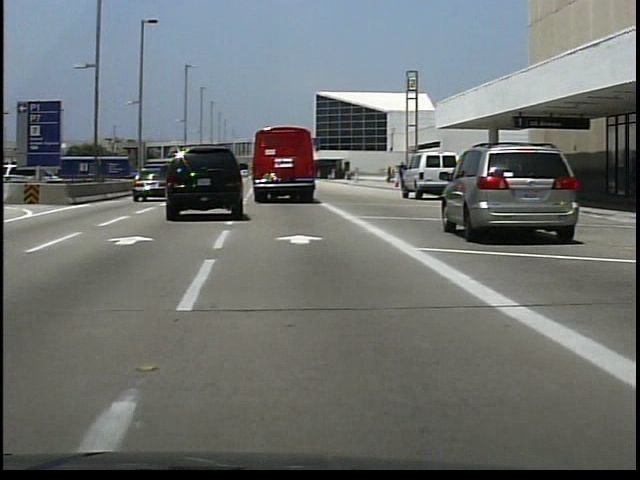person: (397, 160, 409, 195)
